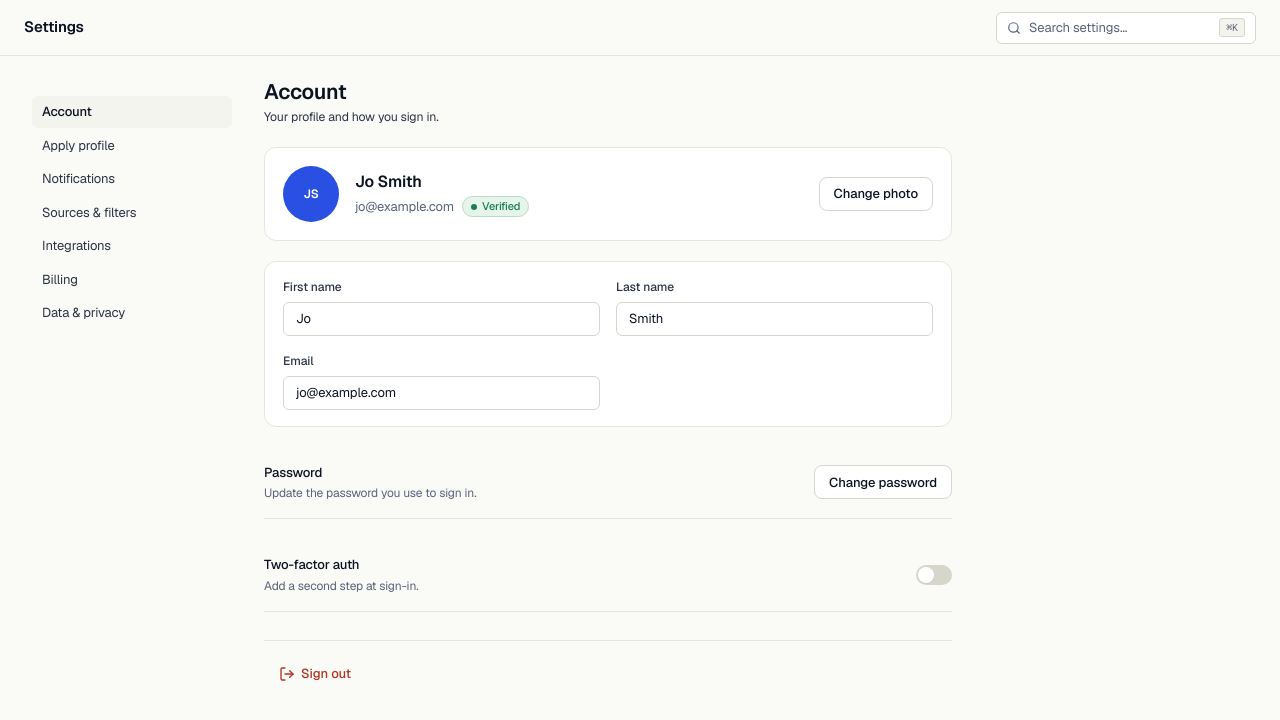
Scenario: TC-FE-PWD-04: network/server error surfaces honestly without clearing the form › shows an error and keeps the typed values on a network error
Click the button "Change password".
click(883, 482)  # box [814,465,952,499]
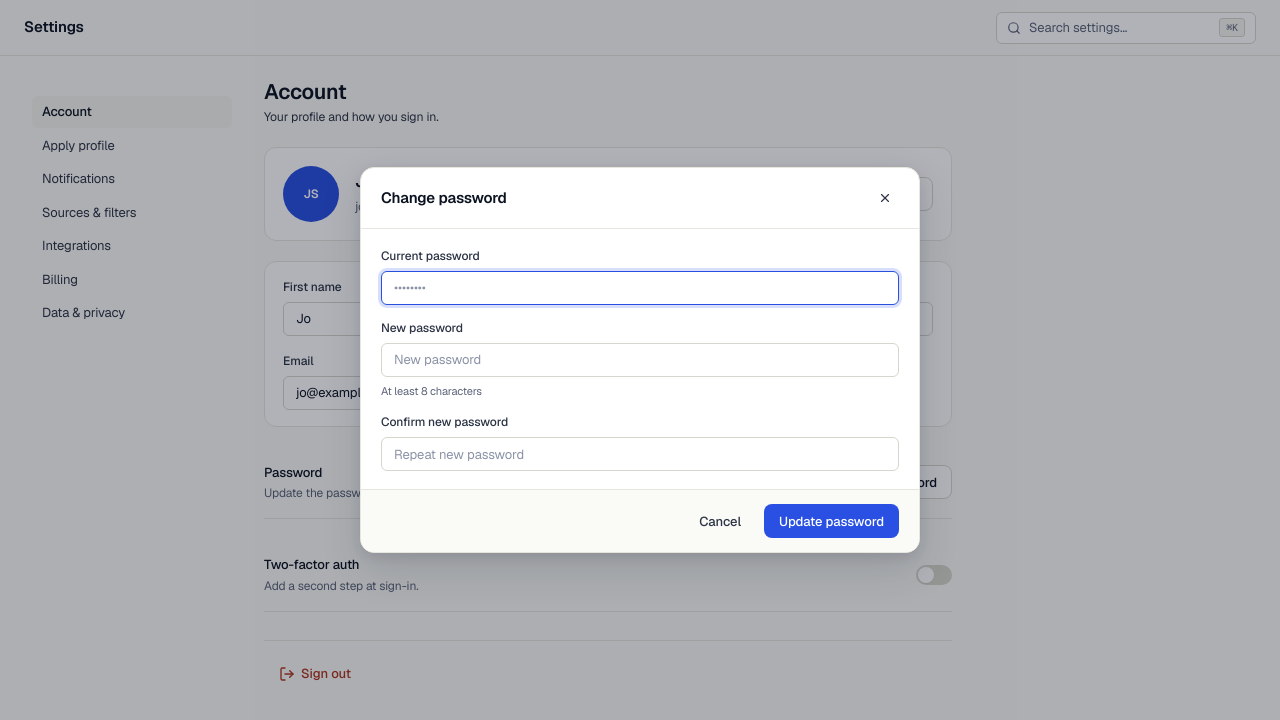
Type "oldpassword1" into the password field with placeholder "••••••••".
click(640, 288); type("oldpassword1")  # box [381,271,899,305]
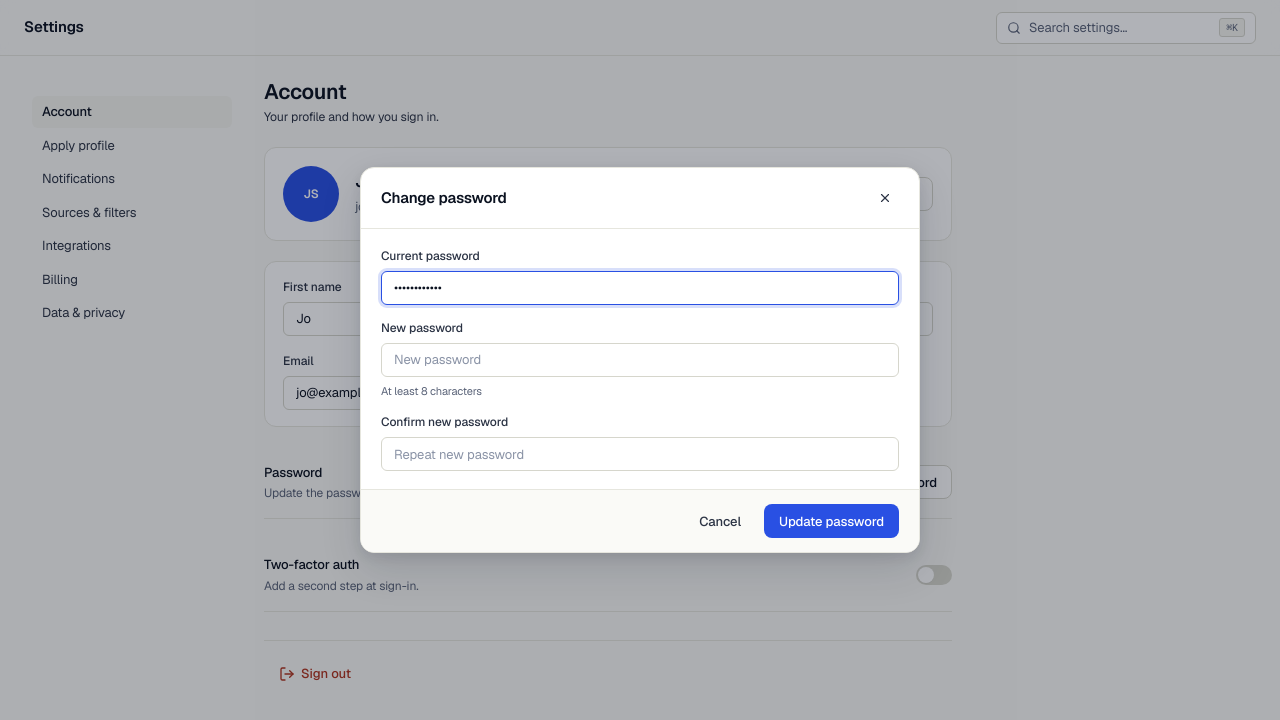
Type "newpassword1" into the password field with placeholder "New password".
click(640, 360); type("newpassword1")  # box [381,343,899,377]
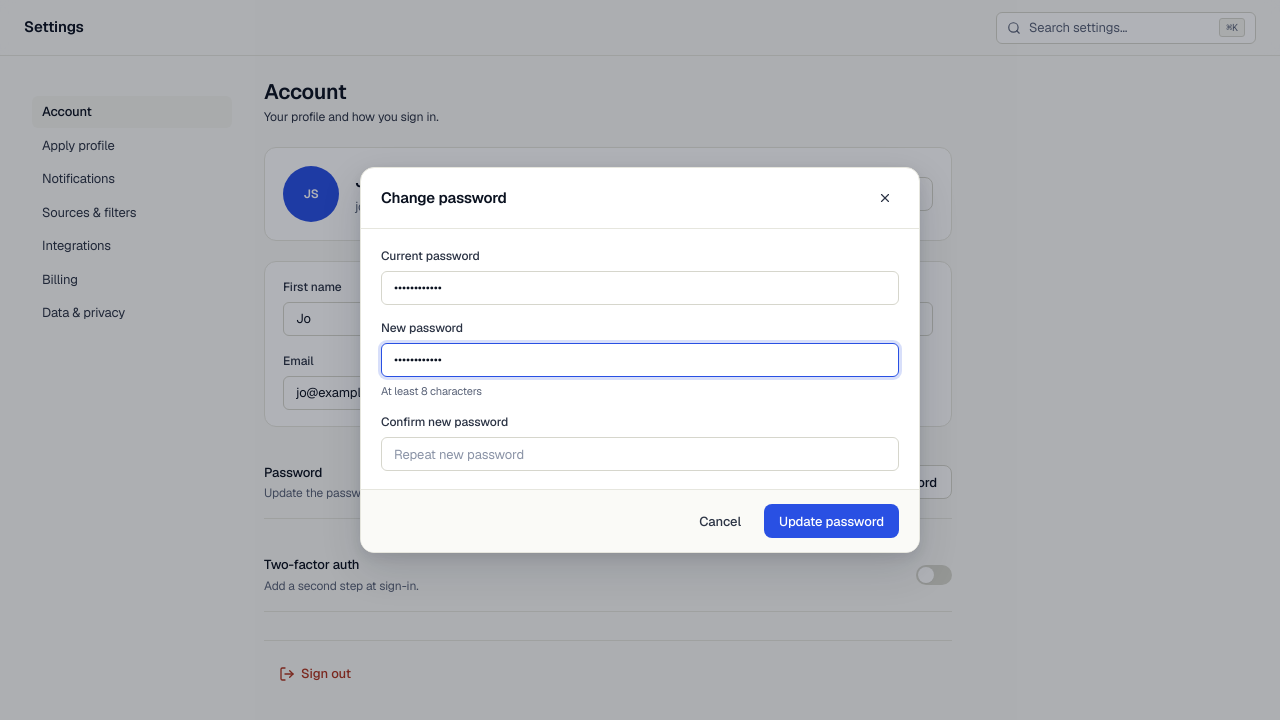
Type "newpassword1" into the password field with placeholder "Repeat new password".
click(640, 454); type("newpassword1")  # box [381,437,899,471]
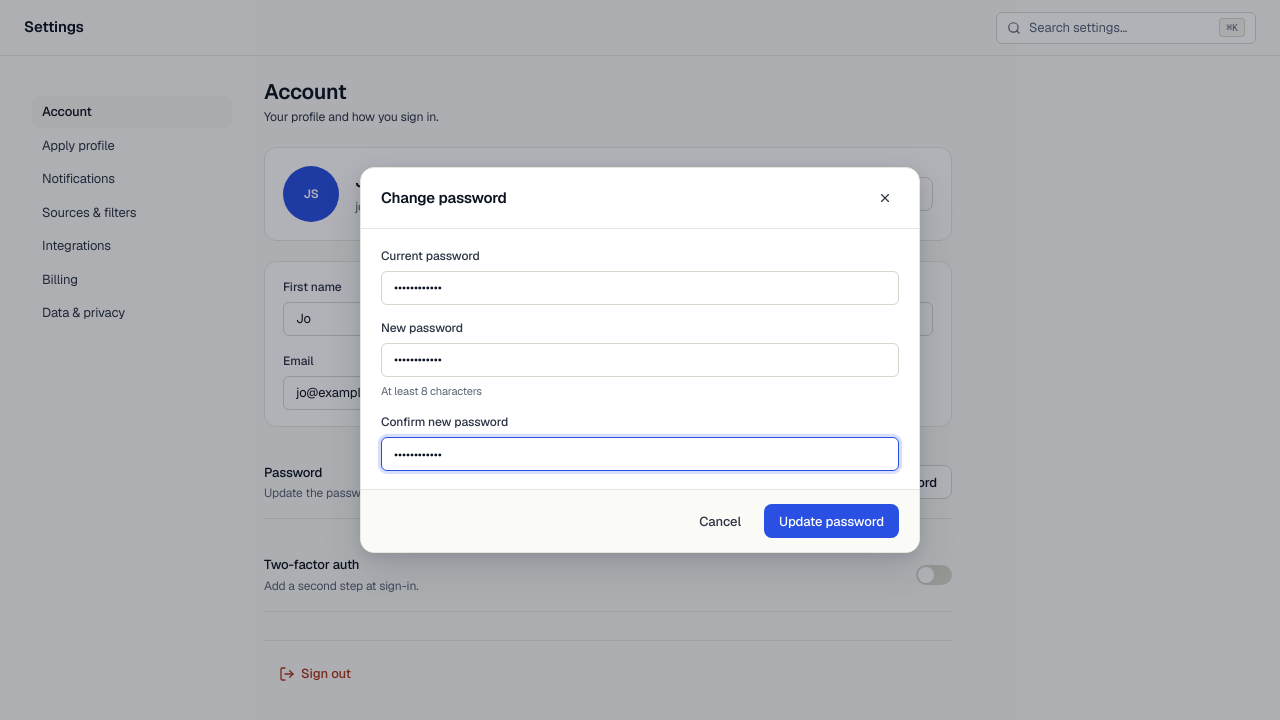
Click the button "Update password".
click(832, 521)  # box [764,504,899,538]
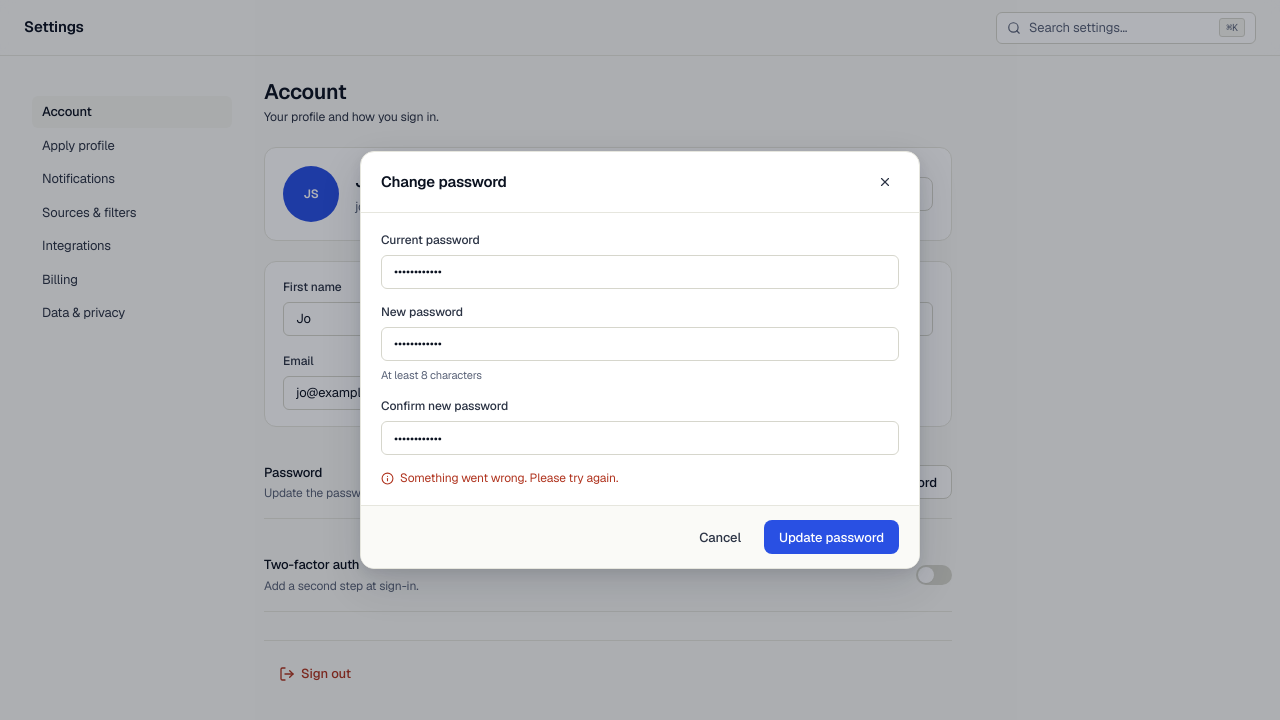
Expected: the text "Something went wrong. Please try again." is shown, [381,470,618,486]
